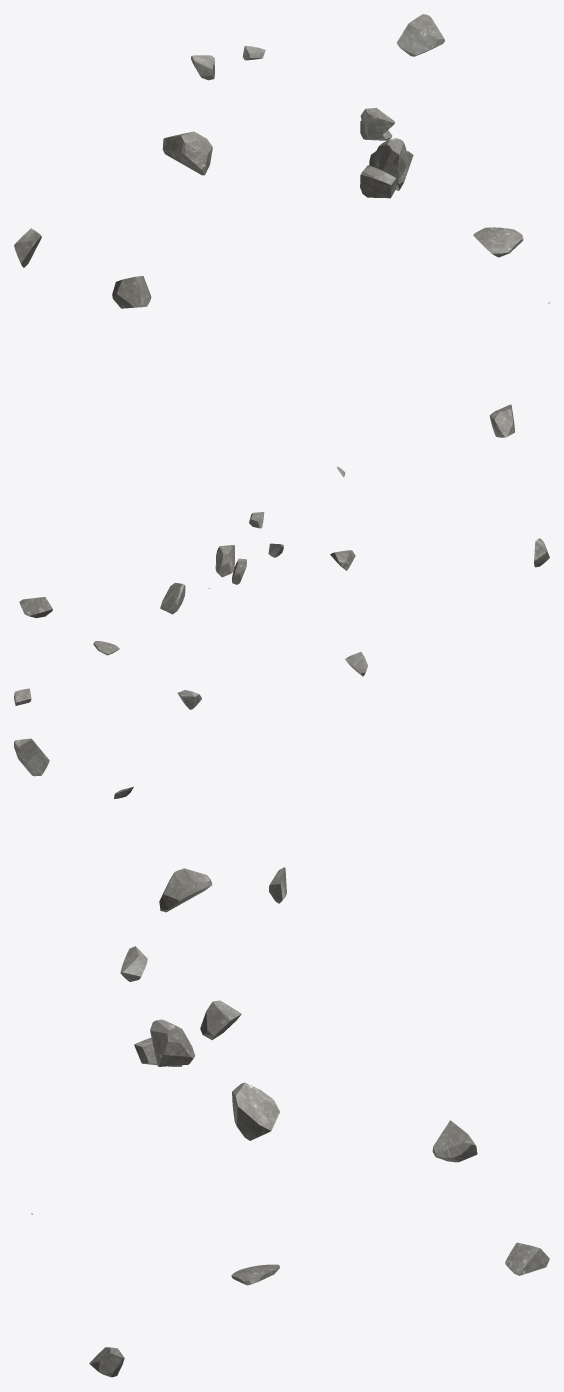
The model's file is rocks.glb.
3 views of the same model, one above another, from view 1: azimuth 30°, elevation 25°; view 2: azimuth 150°, elevation 25°; view 3: azimuth 270°, elevation 25° (orthographic). The views are drawn at different scales.
Parts seen in each view (by area): view 1: Icosphere_cell.007, Icosphere_cell.014, Icosphere_cell.011, Icosphere_cell.021, Icosphere_cell.009, Icosphere_cell.019, Icosphere_cell.013, Icosphere_cell.002, Icosphere_cell.003; view 2: Icosphere_cell.011, Icosphere_cell.005, Icosphere_cell.014, Icosphere_cell.021, Icosphere_cell.003, Icosphere_cell.007, Icosphere_cell.002; view 3: Icosphere_cell.005, Icosphere_cell.011, Icosphere_cell.007, Icosphere_cell.014, Icosphere_cell.001, Icosphere_cell.021, Icosphere_cell.003.
Part boxes in pixels (<box>): Icosphere_cell.007: <box>162,131,212,175</box>; Icosphere_cell.014: <box>396,14,444,56</box>; Icosphere_cell.011: <box>373,138,407,184</box>; Icosphere_cell.021: <box>112,276,151,308</box>; Icosphere_cell.009: <box>473,227,523,257</box>; Icosphere_cell.019: <box>360,165,396,198</box>; Icosphere_cell.013: <box>360,107,394,138</box>; Icosphere_cell.002: <box>490,404,514,437</box>; Icosphere_cell.003: <box>14,228,41,267</box>; Icosphere_cell.011: <box>215,545,234,577</box>; Icosphere_cell.005: <box>160,582,185,614</box>; Icosphere_cell.014: <box>19,597,52,618</box>; Icosphere_cell.021: <box>345,652,367,676</box>; Icosphere_cell.003: <box>534,538,549,567</box>; Icosphere_cell.007: <box>330,550,355,570</box>; Icosphere_cell.002: <box>178,690,201,709</box>; Icosphere_cell.005: <box>232,1082,279,1140</box>; Icosphere_cell.011: <box>150,1019,195,1066</box>; Icosphere_cell.007: <box>159,868,212,912</box>; Icosphere_cell.014: <box>432,1120,477,1162</box>; Icosphere_cell.001: <box>505,1242,549,1275</box>; Icosphere_cell.021: <box>200,1000,241,1039</box>; Icosphere_cell.003: <box>14,738,49,776</box>.
Bounding box in the file's own units: 6.62 × 4.48 × 4.69.
1 material, 1 textured.
